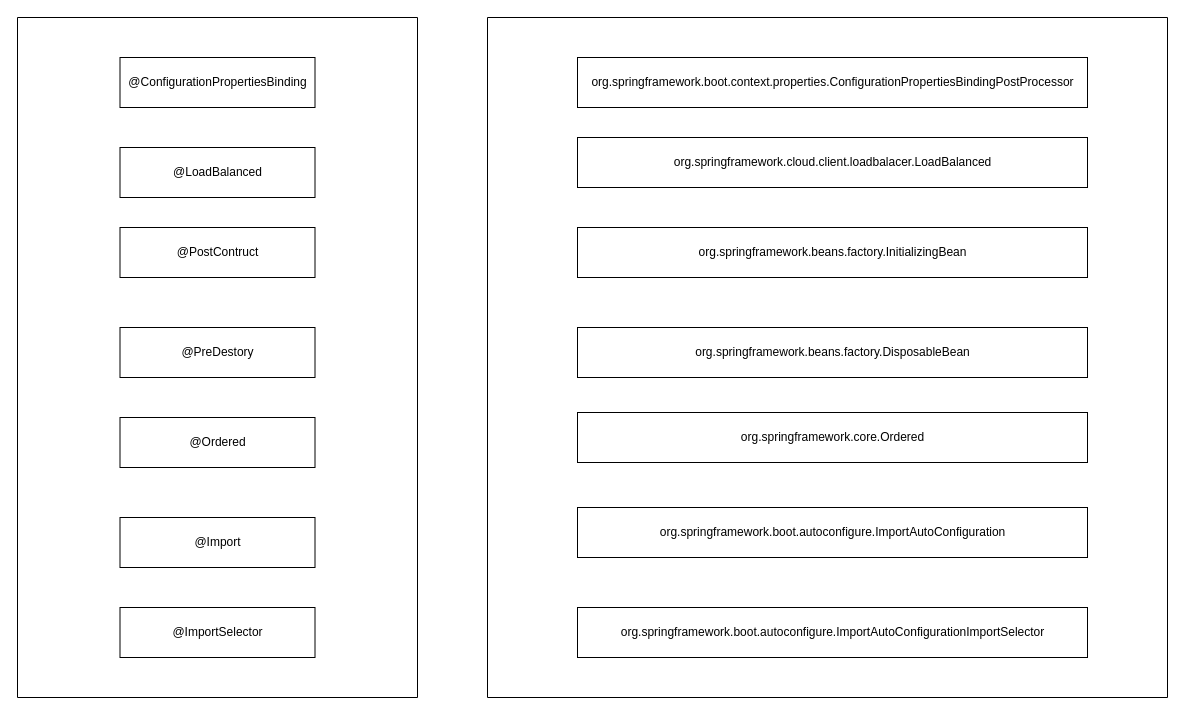
The diagram is 1185 pixels wide and 715 high, and some of its shapes have lost their labels. The shapes that lost their labels are listed below. From the top down, each one's box as (x1, y1, x2, y2) in pixels, then its label:
(16, 16, 418, 698): 注解
(486, 16, 1168, 698): 实现类
